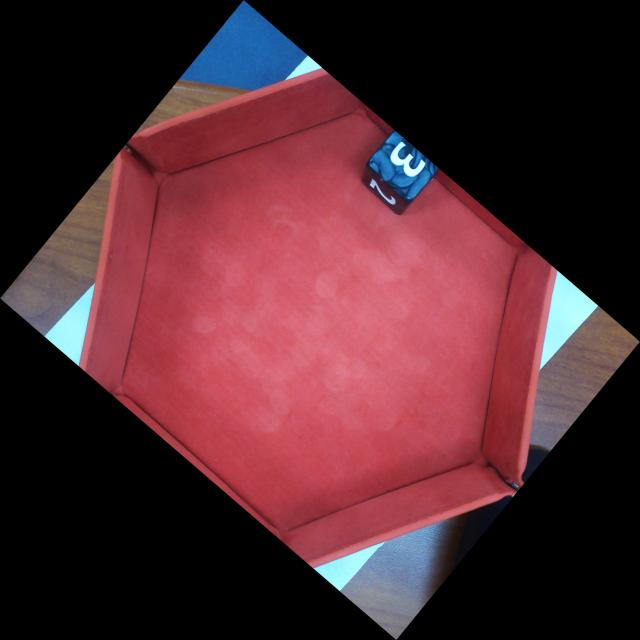dice: (367, 130, 440, 201)
